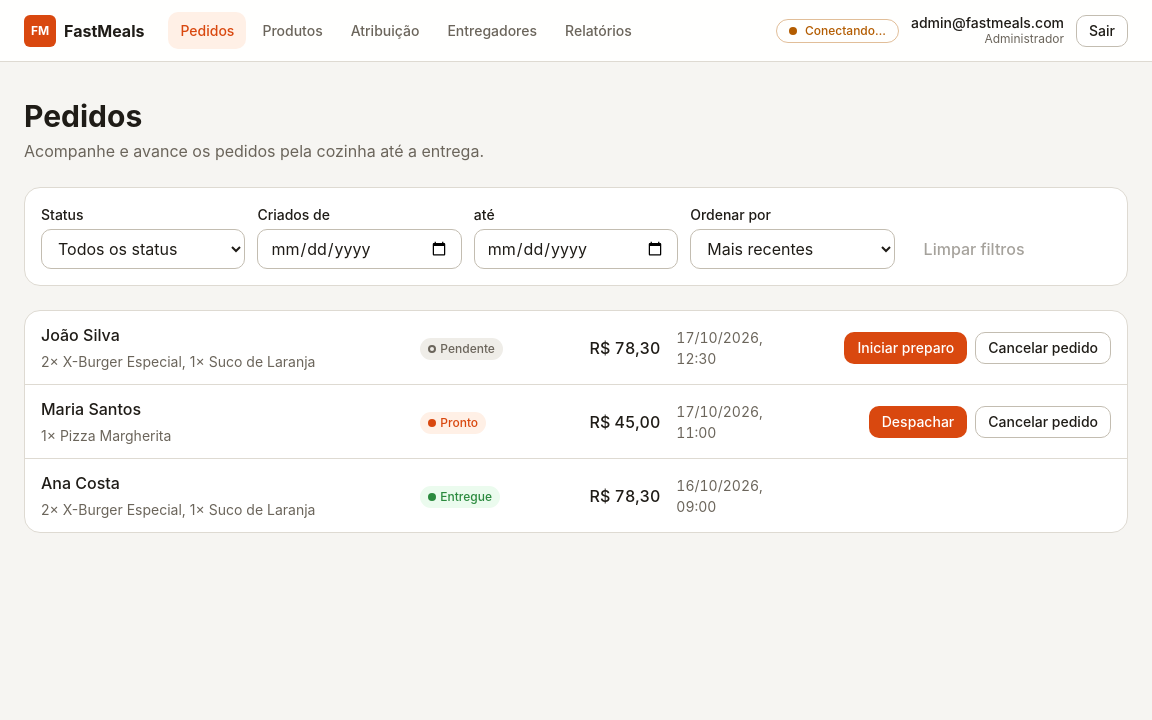
Scenario: Painel de pedidos › tela desatualizada: a recusa da API aparece e nada muda
Click the button "Iniciar preparo" at (906, 348), box [844,332,967,364]
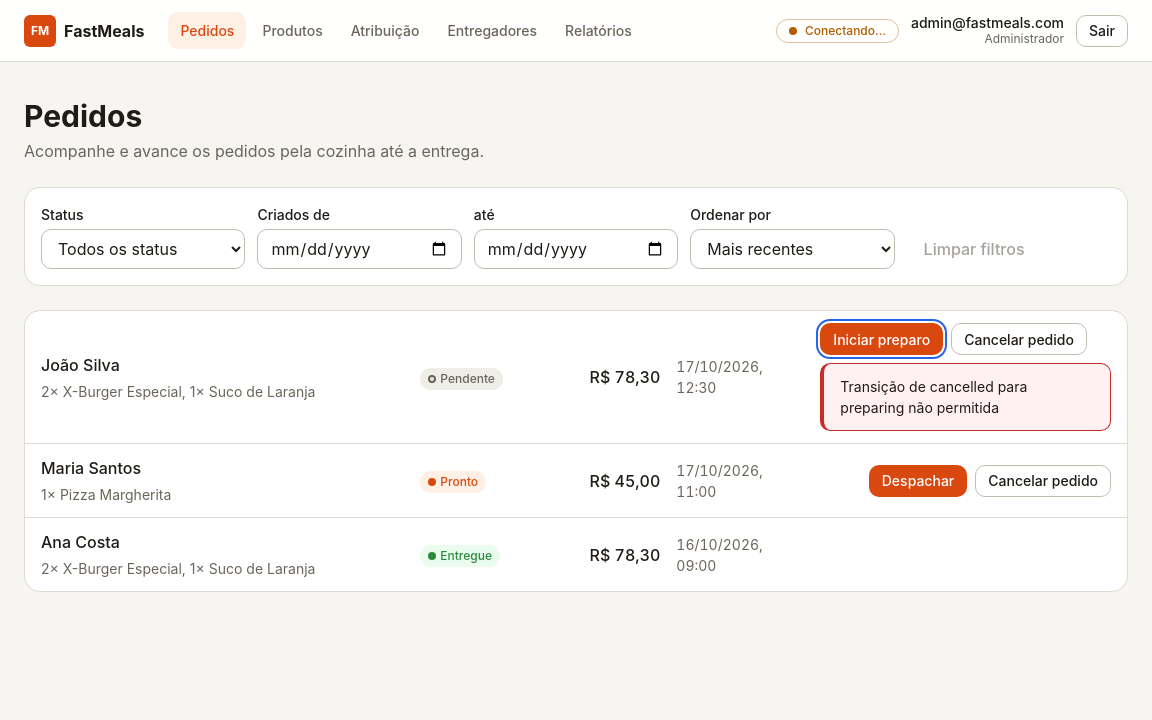
Result: the message "Transição de cancelled para preparing não permitida" is shown at [820,363,1111,431]
